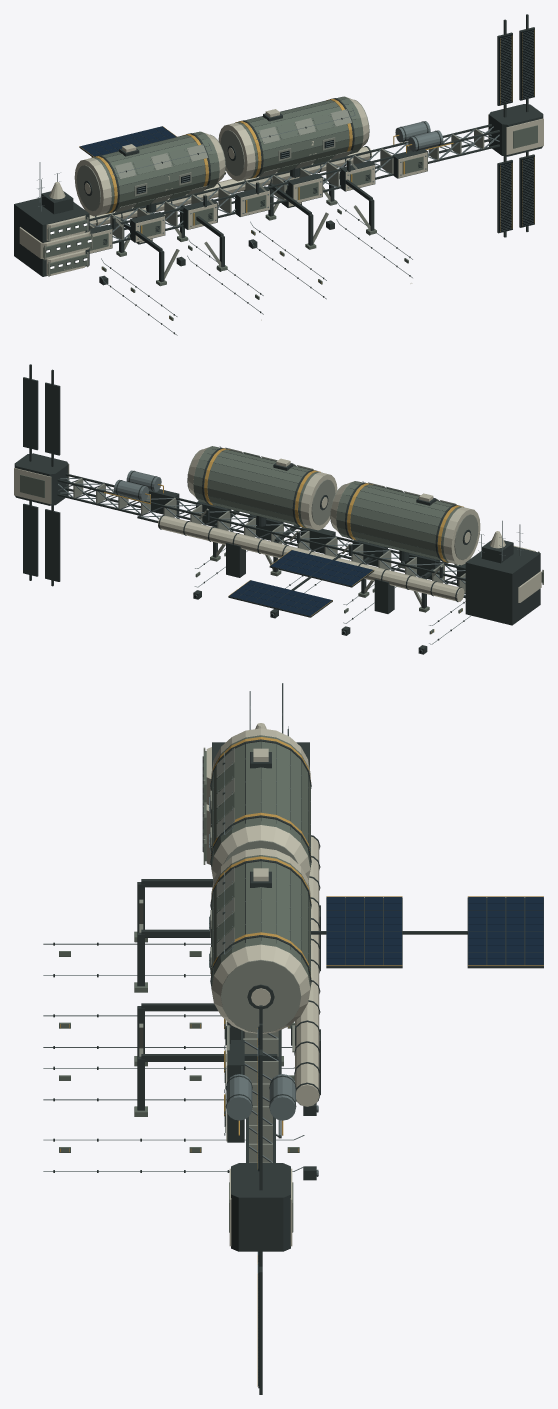
The model's file is station_structure.glb.
3 renders of one model, top to bottom at view 1: azimuth 30°, elevation 25°; view 2: azimuth 150°, elevation 25°; view 3: azimuth 270°, elevation 25°, orthographic. The views are drawn at different scales.
Visible parts, largest first — view 1: StationStructure; view 2: StationStructure; view 3: StationStructure.
Part boxes in pixels (left/top/right/bottom): StationStructure: left=14, top=14, right=543, bottom=335; StationStructure: left=14, top=364, right=543, bottom=654; StationStructure: left=43, top=683, right=543, bottom=1394.
Bounding box in the file's own units: 184 × 75 × 97.39.
